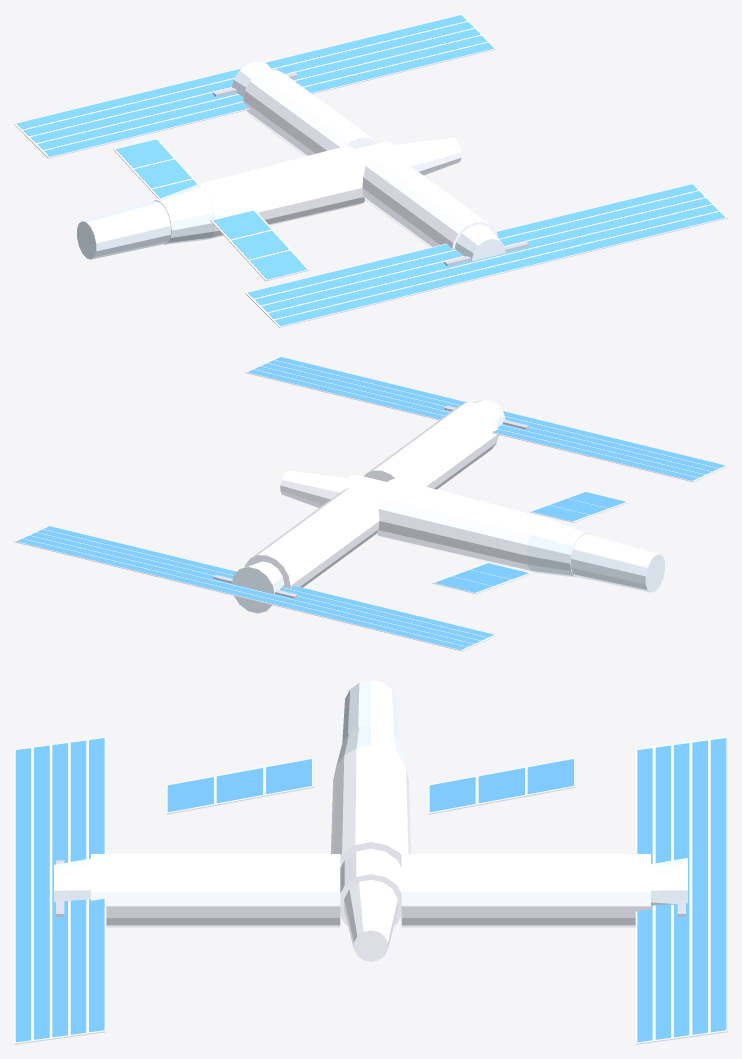
Rendered from tiangong.glb.
3 renders of one model, top to bottom at view 1: azimuth 30°, elevation 25°; view 2: azimuth 150°, elevation 25°; view 3: azimuth 270°, elevation 25°, orthographic. The views are drawn at different scales.
Visible parts, largest first — view 1: Spacecraft; view 2: Spacecraft; view 3: Spacecraft.
Part boxes in pixels (x1=…): Spacecraft: x1=14, y1=14, x2=727, y2=327; Spacecraft: x1=14, y1=356, x2=727, y2=651; Spacecraft: x1=14, y1=680, x2=727, y2=1044.
Size of the model in its own units: 38.63 by 4 by 34.92.
